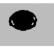correct: (7, 8, 42, 34)
